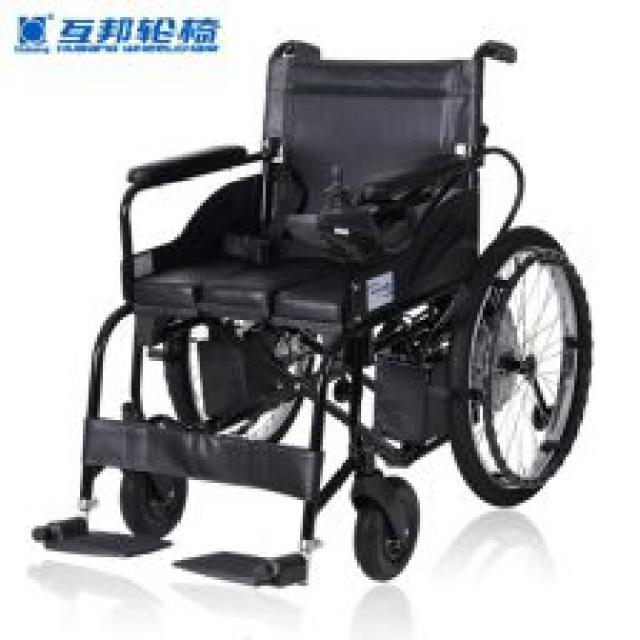wheelchair: (31, 26, 592, 588)
